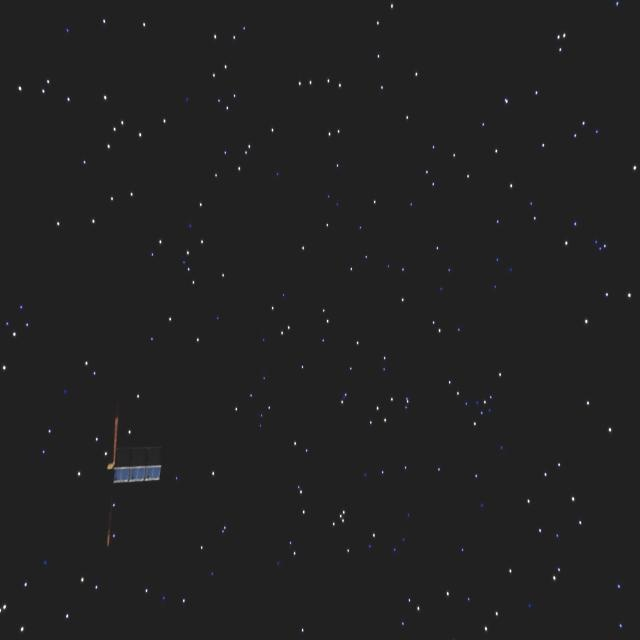satellite: (90, 413, 171, 555)
